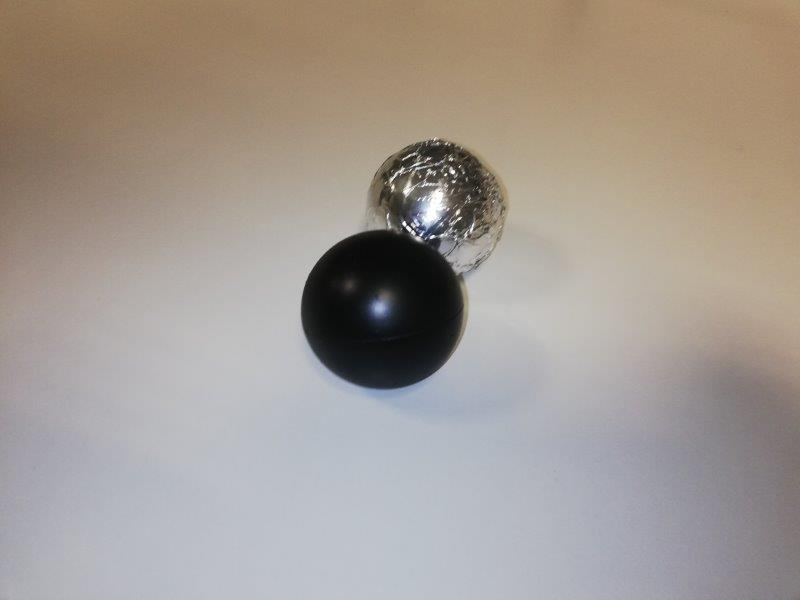bianca: (367, 136, 503, 279)
nera: (301, 227, 466, 391)
